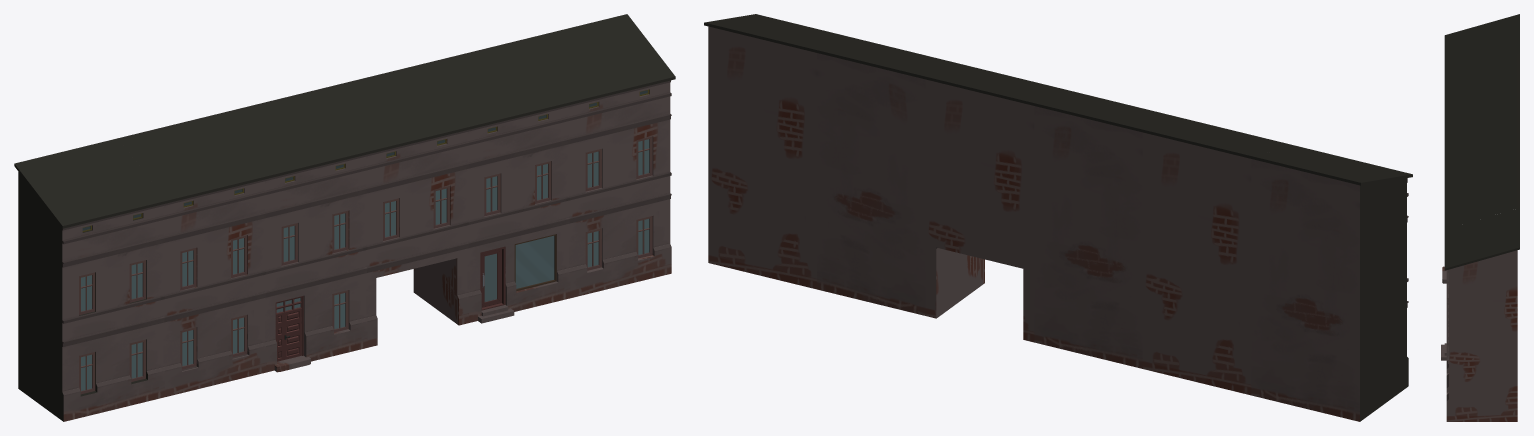
File: BUD_kamienica3-final.fbx
3 renders of one model, left to right at view 1: azimuth 30°, elevation 25°; view 2: azimuth 150°, elevation 25°; view 3: azimuth 270°, elevation 25°, orthographic. The views are drawn at different scales.
Parts seen in each view (by area): view 1: kamienica3-sideL_LOD0, kamienica3-sideR_LOD0, kamienica3-basic_LOD0, kamienica3-entry_LOD0, kamienica3-shop_LOD0, kamienica3-tunnel_LOD0, k3-shop-decor_LOD0, k3-entry-decor_LOD0, k3-mid-decor_LOD0, k3-mid-decor1_LOD0, k3-mid-decor2_LOD0, k3-tunnel-decor_LOD0; view 2: kamienica3-sideL_LOD0, kamienica3-basic_LOD0, kamienica3-sideR_LOD0, kamienica3-entry_LOD0, kamienica3-shop_LOD0, kamienica3-tunnel_LOD0; view 3: kamienica3-sideR_LOD0, kamienica3-shop_LOD0, kamienica3-entry_LOD0, kamienica3-sideL_LOD0, kamienica3-tunnel_LOD0, kamienica3-basic_LOD0.
Boxes of the visible parts, x1,y1,x2,y2 form: kamienica3-sideL_LOD0: (14,138,166,421); kamienica3-sideR_LOD0: (524,14,675,298); kamienica3-basic_LOD0: (118,113,267,396); kamienica3-entry_LOD0: (219,89,368,372); kamienica3-shop_LOD0: (422,39,571,323); kamienica3-tunnel_LOD0: (321,64,470,347); k3-shop-decor_LOD0: (480,114,556,310); k3-entry-decor_LOD0: (275,164,348,361); k3-mid-decor_LOD0: (180,188,247,369); k3-mid-decor1_LOD0: (585,89,652,270); k3-mid-decor2_LOD0: (79,213,145,394); k3-tunnel-decor_LOD0: (383,139,449,240); kamienica3-sideL_LOD0: (1249,147,1412,421); kamienica3-basic_LOD0: (1141,120,1300,395); kamienica3-sideR_LOD0: (704,14,866,289); kamienica3-entry_LOD0: (1032,94,1191,368); kamienica3-shop_LOD0: (815,41,974,315); kamienica3-tunnel_LOD0: (924,67,1083,342); kamienica3-sideR_LOD0: (1444,208,1519,421); kamienica3-shop_LOD0: (1441,169,1519,362); kamienica3-entry_LOD0: (1442,92,1519,283); kamienica3-sideL_LOD0: (1444,14,1519,74); kamienica3-tunnel_LOD0: (1444,131,1519,190); kamienica3-basic_LOD0: (1444,53,1519,113).
Size of what is drawn, in the model's own units: 2420 by 848 by 345.
